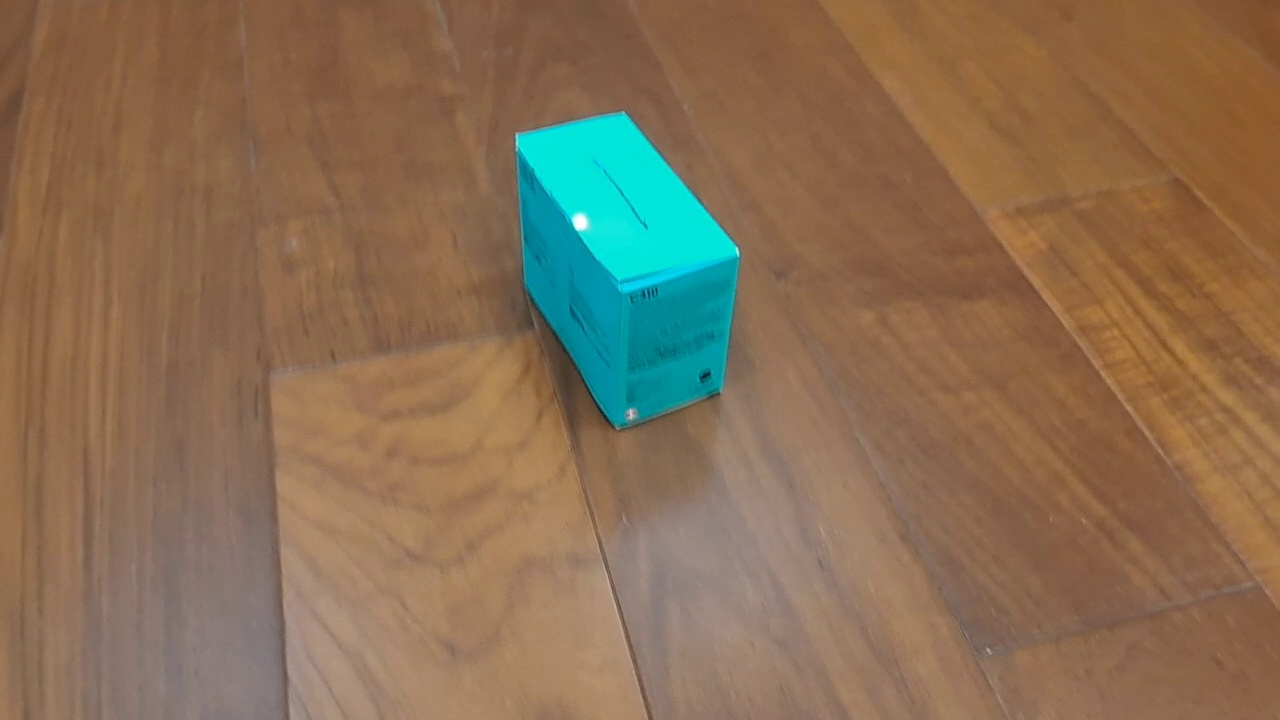webcam: (513, 109, 742, 433)
